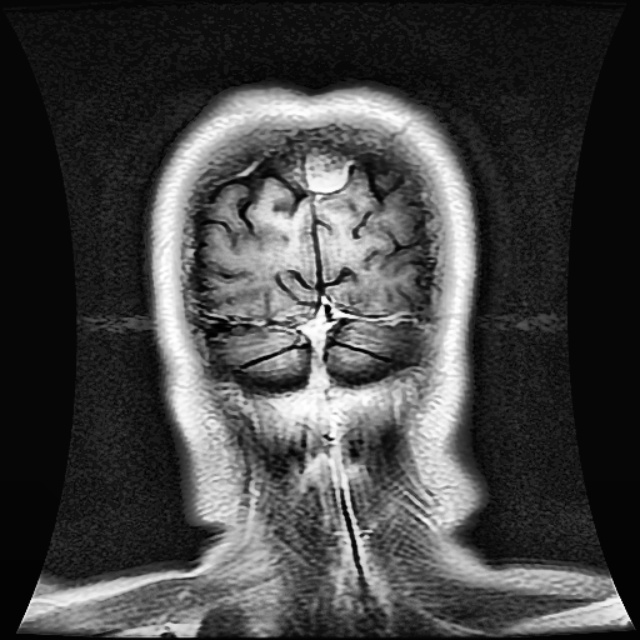Glioma: (304, 150, 352, 193)
